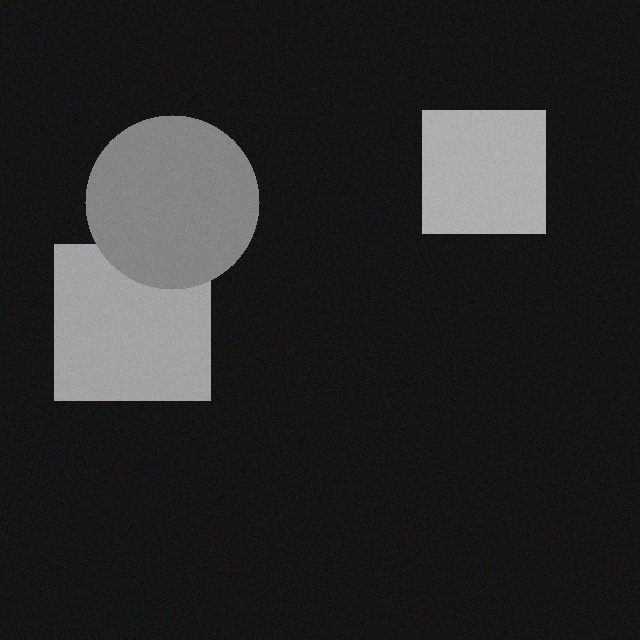circle: (84, 129, 258, 303)
square: (53, 258, 209, 414), (421, 124, 544, 247)
